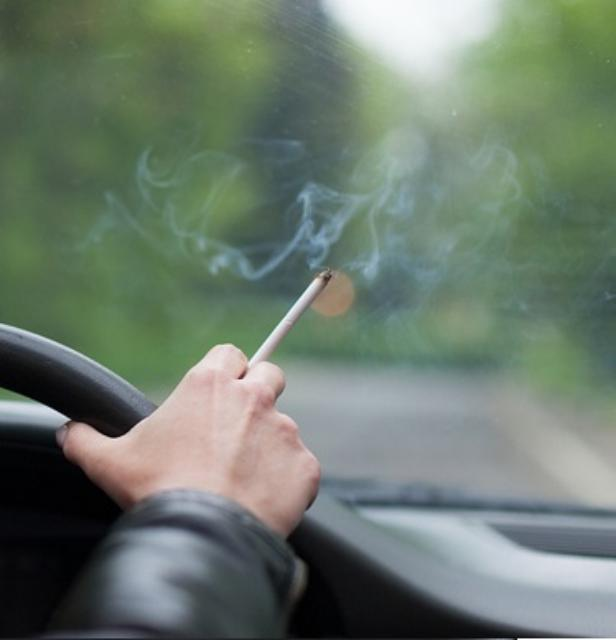Cigarette: (242, 259, 338, 371)
